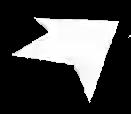Plane: (5, 7, 121, 108)
